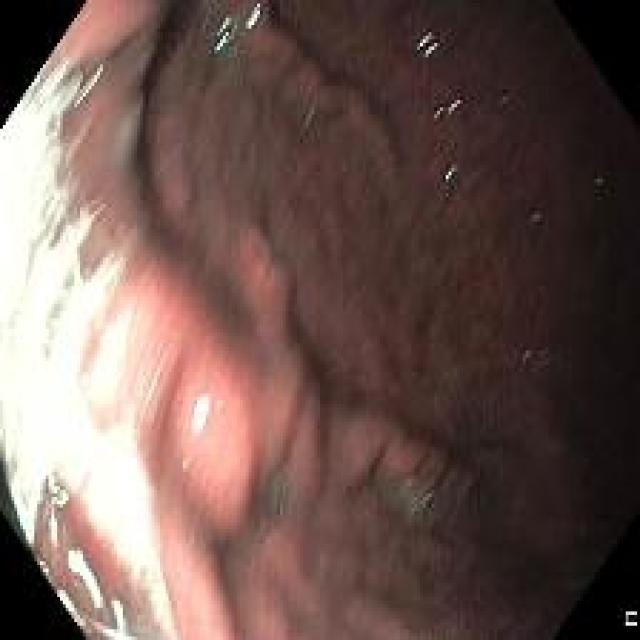blur: (1, 1, 577, 637)
color misalignment: (624, 611, 637, 626)
contrast: (598, 70, 637, 574)
saturation: (1, 44, 176, 635)
specularity: (66, 547, 101, 609), (75, 64, 104, 107), (191, 392, 211, 435), (110, 599, 127, 638), (414, 31, 437, 59), (433, 98, 460, 119), (216, 14, 229, 55), (57, 590, 74, 615), (246, 2, 262, 28), (49, 511, 58, 548), (443, 165, 457, 179)
